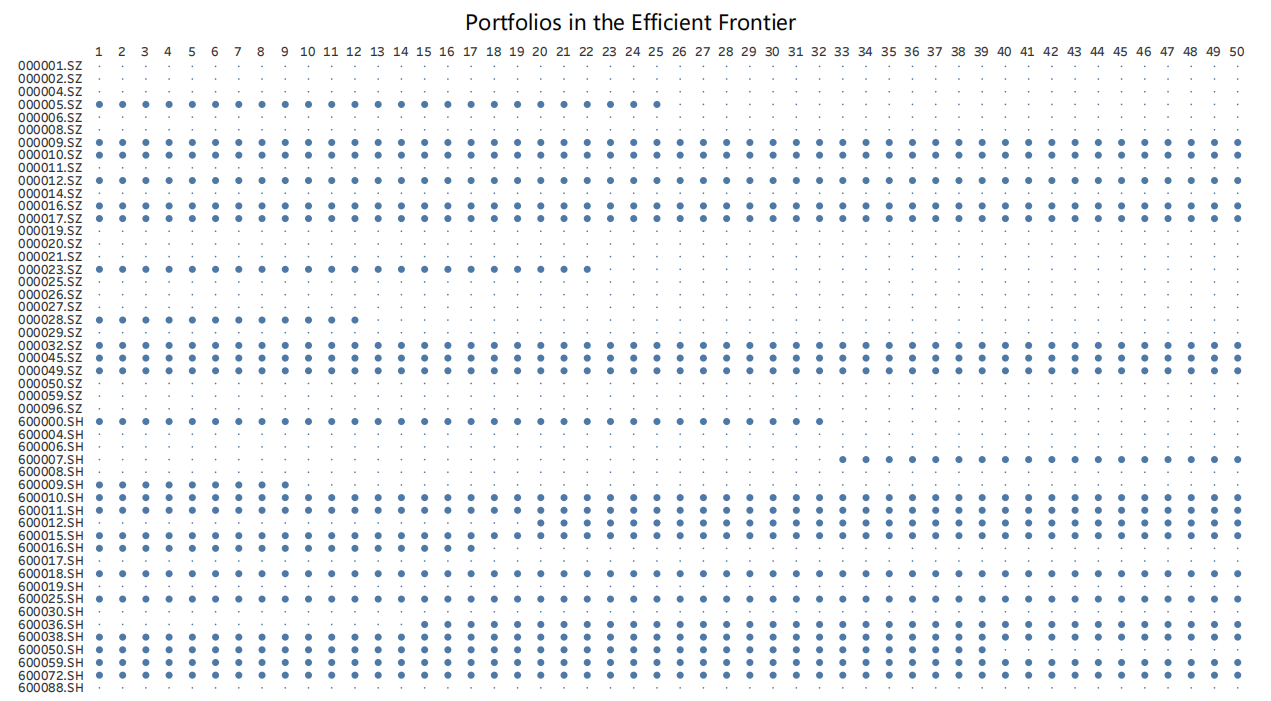

Layout of this report page (visuals, bound fields, positions):
{"tool":"tableau","page":{"name":"仪表板 1","canvas":[1500,850],"ordinal":0},"visuals":[{"type":"worksheet","title":"工作表 5","mark":"Circle","rows":["F1"],"box":[8,8,1484,834]}]}

Visuals, with their boxes in screenshot pixels (x1, y1, x2, y2), scaled from the page's 1500x850 canvas onto the 1271x701 screenshot:
"工作表 5" worksheet (Circle marks): <region>7, 7, 1264, 694</region>
